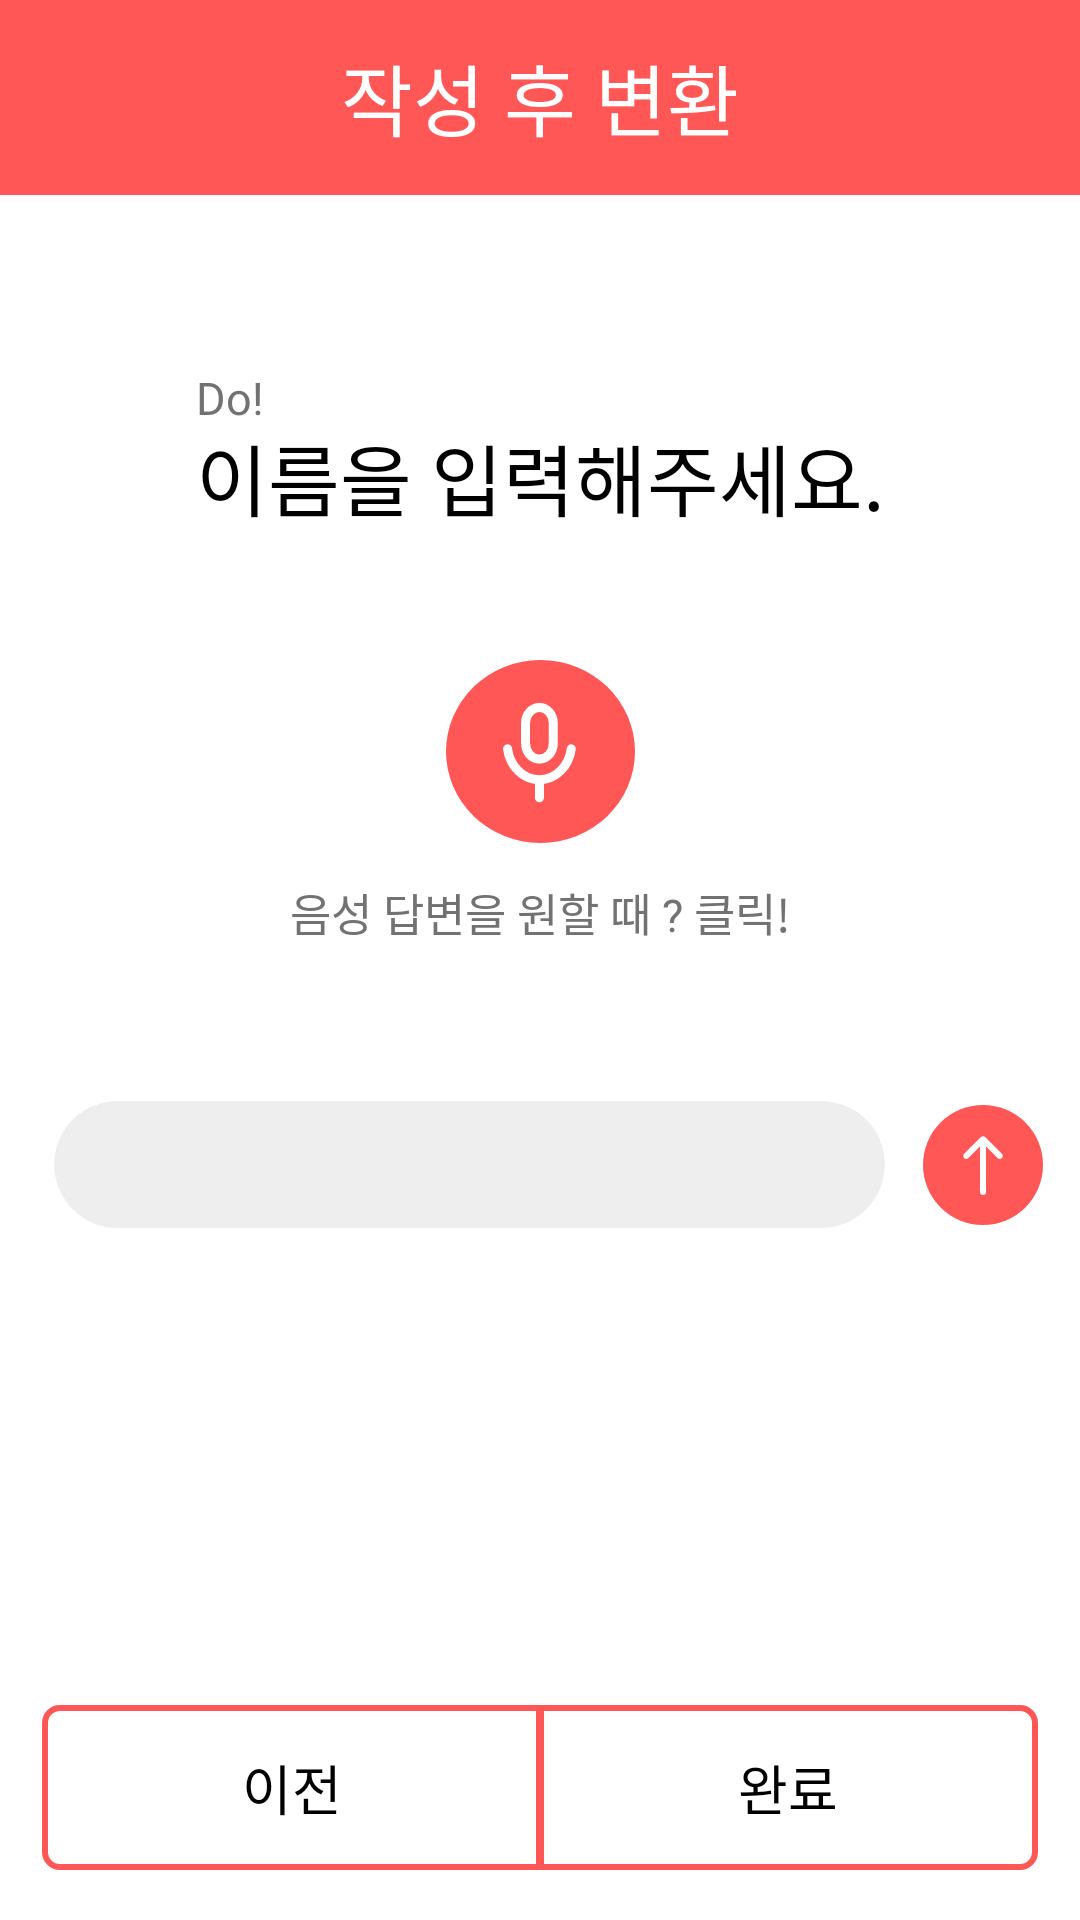

Icons on this 1080px×1920px Android screen, each with the point to tap as (x,y):
mic: (540,751)
send: (983,1165)
